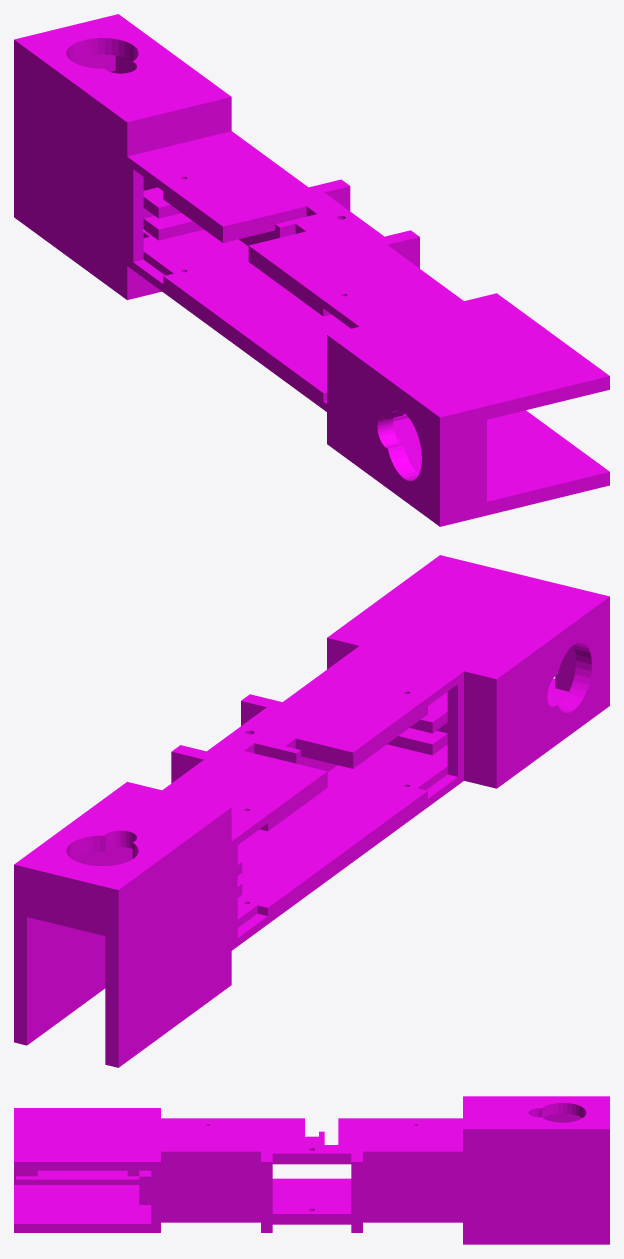
Rendered from twister.glb.
The picture shows the model from 3 angles, top to bottom: view 1: azimuth 30°, elevation 25°; view 2: azimuth 150°, elevation 25°; view 3: azimuth 270°, elevation 25°; orthographic projection. The views are drawn at different scales.
Parts seen in each view (by area): view 1: twister; view 2: twister; view 3: twister.
Part boxes in pixels (x1=…): twister: x1=14, y1=14, x2=609, y2=526; twister: x1=14, y1=555, x2=609, y2=1067; twister: x1=14, y1=1096, x2=609, y2=1244.
Size of the model in its own units: 0.325 by 0.325 by 1.52.
